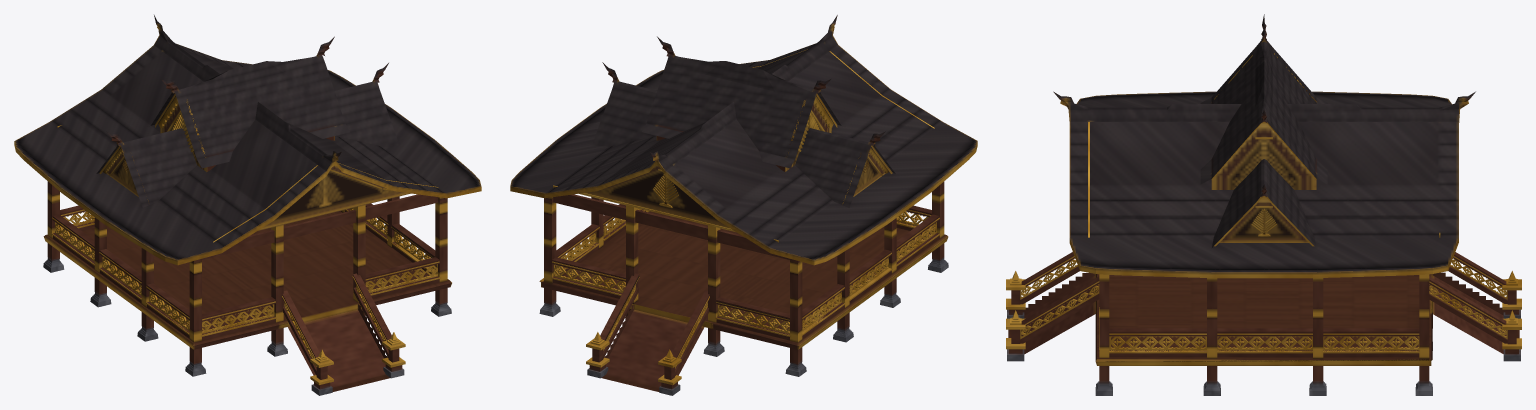
File: pavilion-pusaka.fbx
The picture shows the model from 3 angles, left to right: view 1: azimuth 30°, elevation 25°; view 2: azimuth 150°, elevation 25°; view 3: azimuth 270°, elevation 25°; orthographic projection. The views are drawn at different scales.
Visible parts, largest first — view 1: SM_Pavilion; view 2: SM_Pavilion; view 3: SM_Pavilion.
Part boxes in pixels (x1,y1,x2,y2): SM_Pavilion: (14, 15, 481, 395); SM_Pavilion: (510, 15, 977, 395); SM_Pavilion: (1006, 14, 1521, 395).
Bounding box in the file's own units: 257 × 182 × 309.
1 material, 1 textured.
